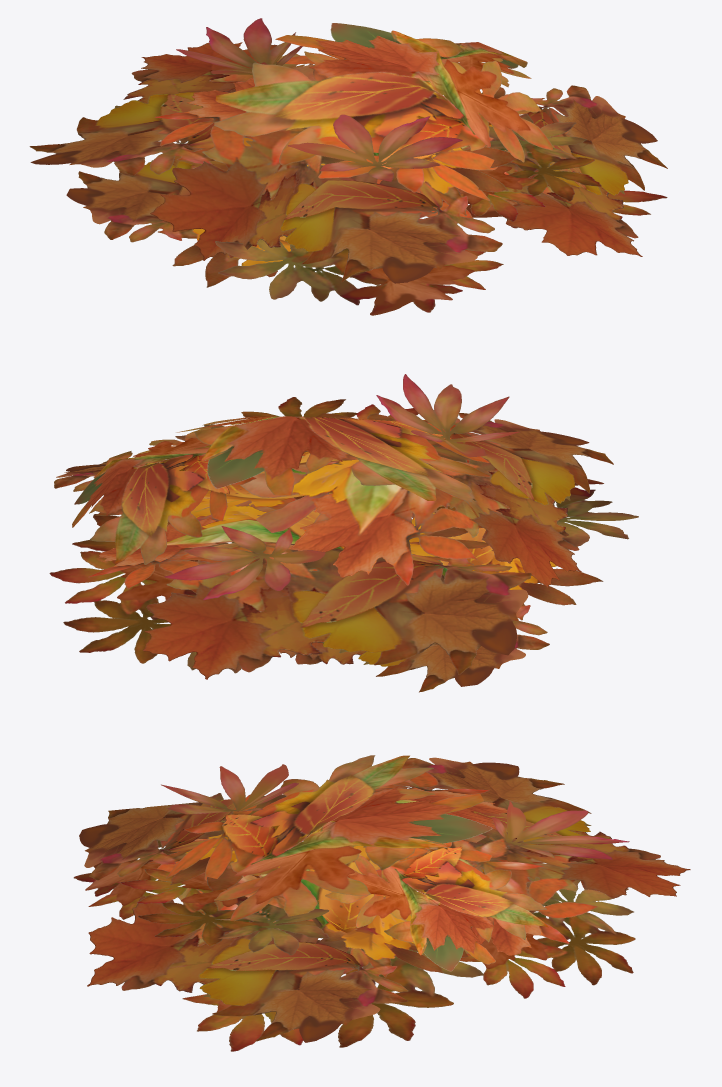
File: CBS_FallenLeaves_02.FBX
3 views of the same model, one above another, from view 1: azimuth 30°, elevation 25°; view 2: azimuth 150°, elevation 25°; view 3: azimuth 270°, elevation 25° (orthographic). The views are drawn at different scales.
Parts seen in each view (by area): view 1: CBS_FallenLeaves_02; view 2: CBS_FallenLeaves_02; view 3: CBS_FallenLeaves_02.
Part boxes in pixels (x1,y1,x2,y2): CBS_FallenLeaves_02: [29, 18, 667, 315]; CBS_FallenLeaves_02: [49, 374, 638, 692]; CBS_FallenLeaves_02: [73, 755, 690, 1051].
Bounding box in the file's own units: 89.28 × 21.76 × 98.47.
